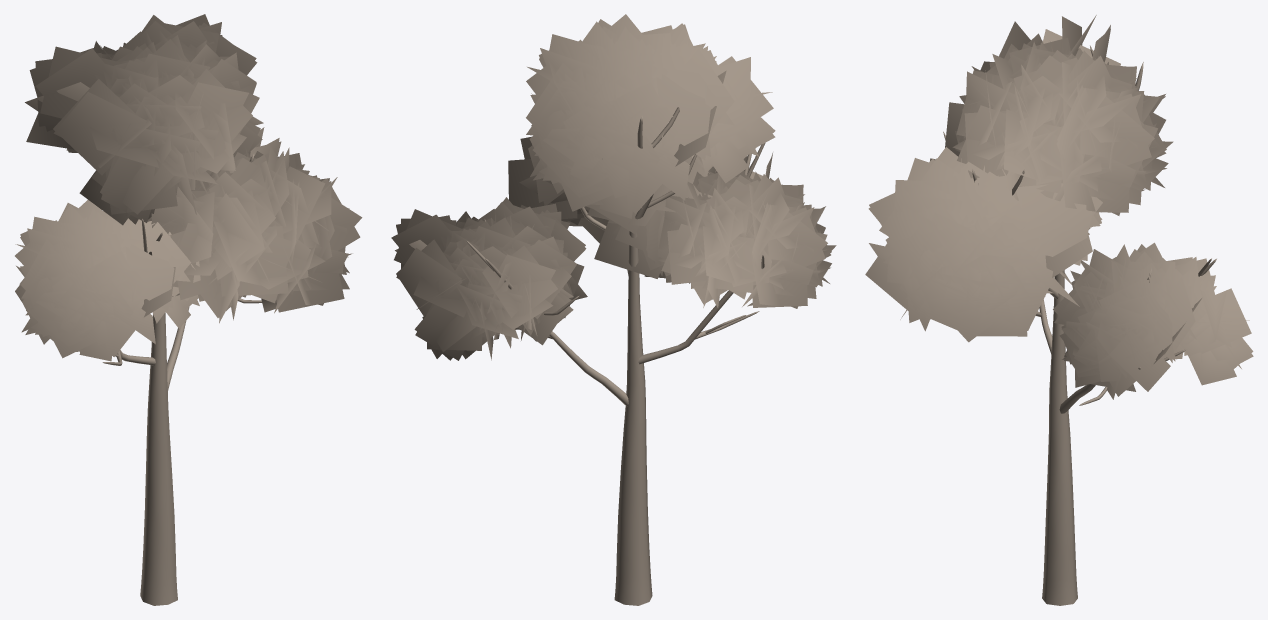
The model's file is BirchTree_5.glb.
3 views of the same model, side by side, from view 1: azimuth 30°, elevation 25°; view 2: azimuth 150°, elevation 25°; view 3: azimuth 270°, elevation 25° (orthographic). The views are drawn at different scales.
Parts seen in each view (by area): view 1: BirchTree_Leaves, BirchTree_Bark; view 2: BirchTree_Leaves, BirchTree_Bark; view 3: BirchTree_Leaves, BirchTree_Bark.
Boxes of the visible parts, <box> form: BirchTree_Leaves: <box>15,14,362,361</box>; BirchTree_Bark: <box>102,153,262,605</box>; BirchTree_Leaves: <box>391,14,836,360</box>; BirchTree_Bark: <box>466,107,765,605</box>; BirchTree_Leaves: <box>865,15,1253,399</box>; BirchTree_Bark: <box>943,45,1216,605</box>.
Size of the model in its own units: 3.58 by 5.52 by 3.51.
